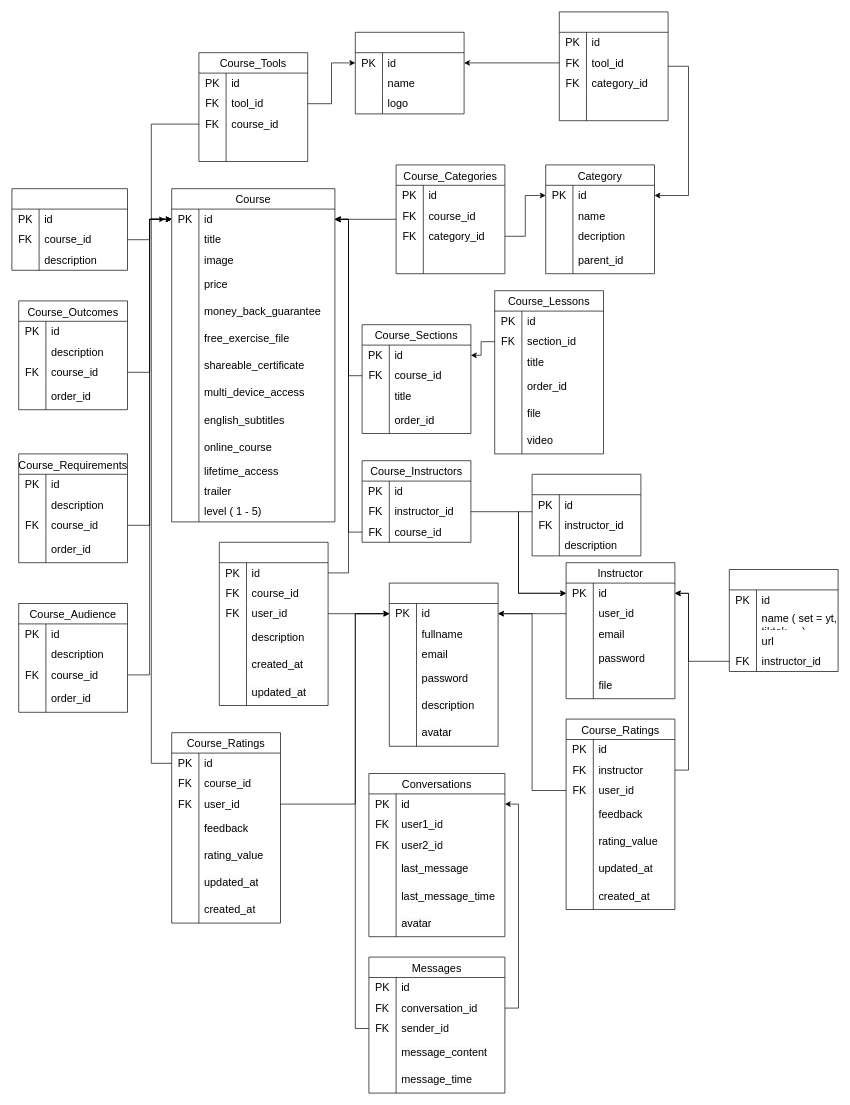
This 850x1105 diagram has some shape labels left out. The shapes that lost their labels are listed below. From the top down, each one's box as (x1, y1, x2, y2) in pixels, then its label:
(355, 32, 464, 114): Tools
(559, 11, 668, 121): Category_Tools
(11, 188, 128, 270): Course_Descriptions
(531, 474, 641, 556): Instructor_Abouts
(219, 542, 328, 706): Comments
(729, 569, 838, 672): Instructor_social
(389, 582, 498, 746): User
